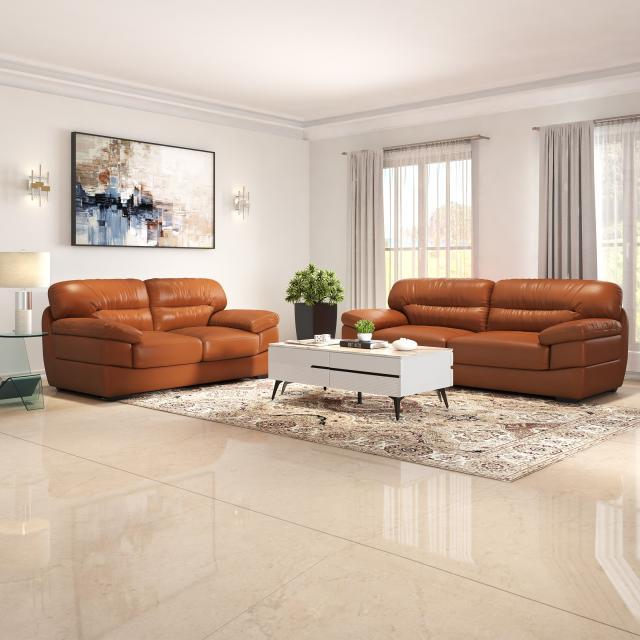sofa: (340, 276, 630, 402), (41, 276, 280, 401)
